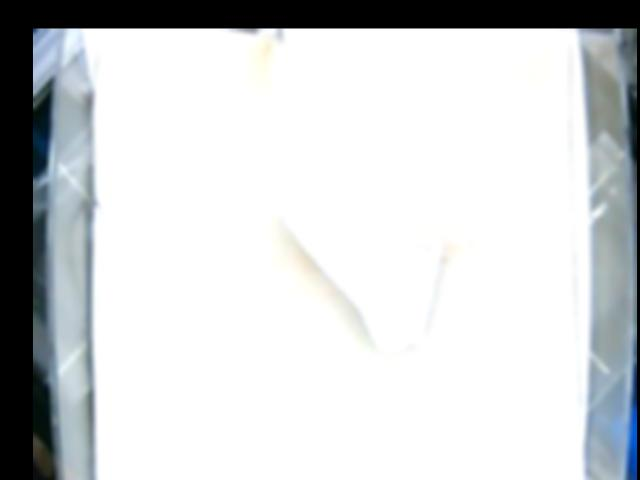China: (271, 202, 444, 355)
